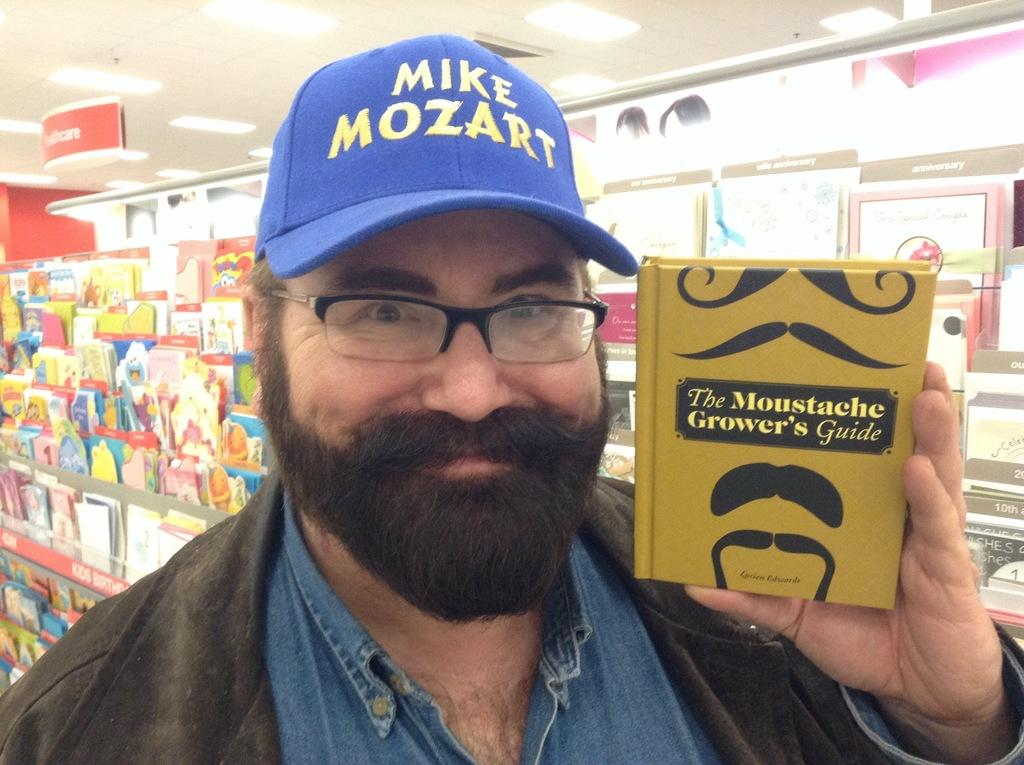Hat: (253, 30, 639, 279)
